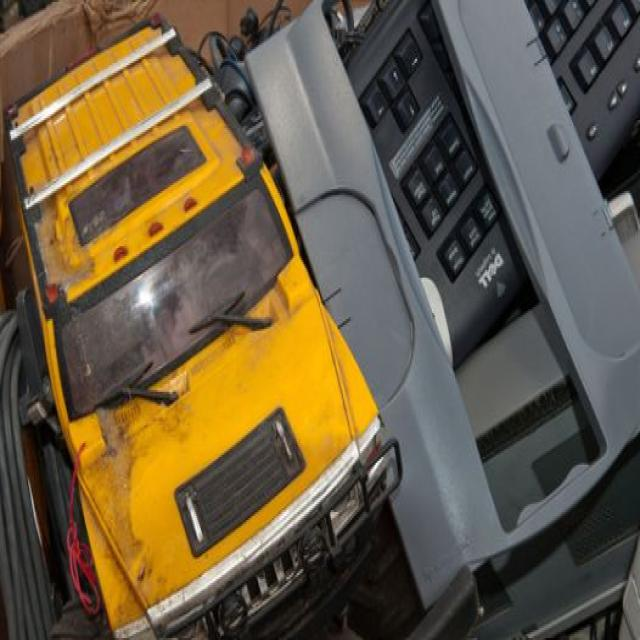electronic: (327, 0, 640, 347)
